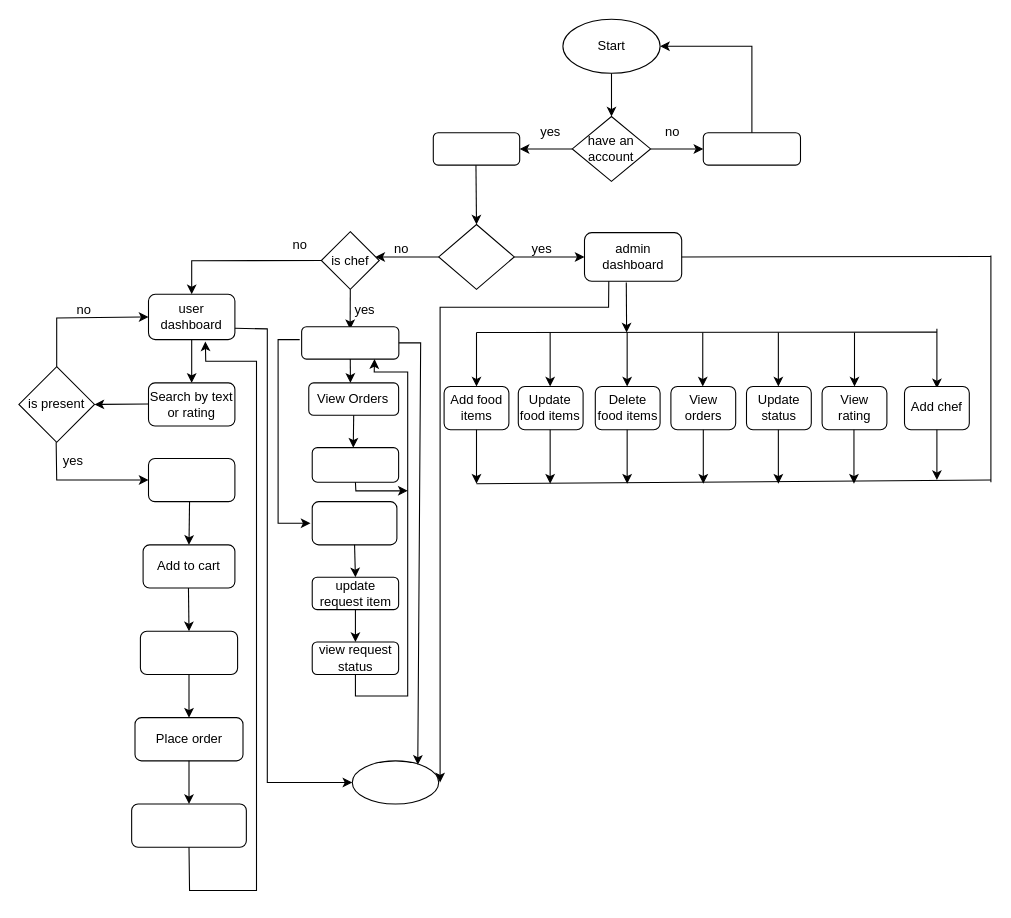
This 1011x918 diagram has some shape labels left out. Here are the shapes that lost their labels. From the top down, the box of each, then its label:
(432, 132, 520, 165): Login
(702, 132, 800, 165): Signup
(438, 223, 514, 289): is admin
(301, 326, 399, 359): chef dashboard
(147, 457, 235, 502): view product description
(311, 447, 399, 482): update order status
(311, 501, 397, 545): Add inventory request item
(139, 630, 238, 674): Update cart
(351, 760, 439, 804): stop
(131, 803, 246, 847): rate food
